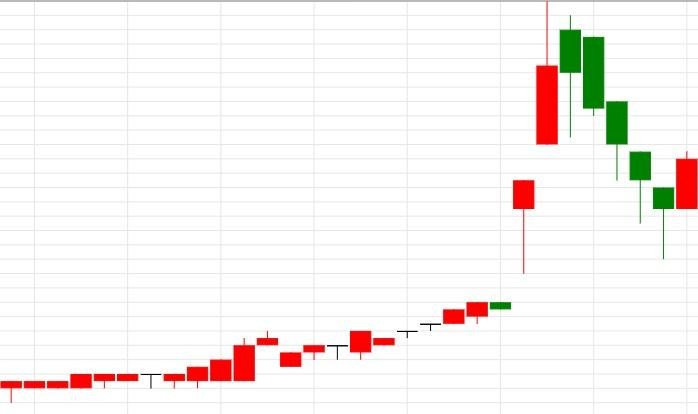hammer_rise: (559, 15, 675, 259)
